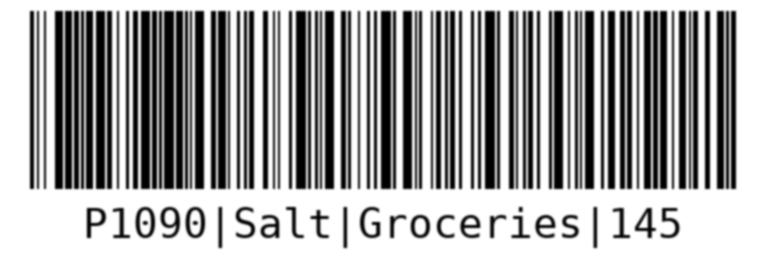milk: (23, 4, 744, 258)
